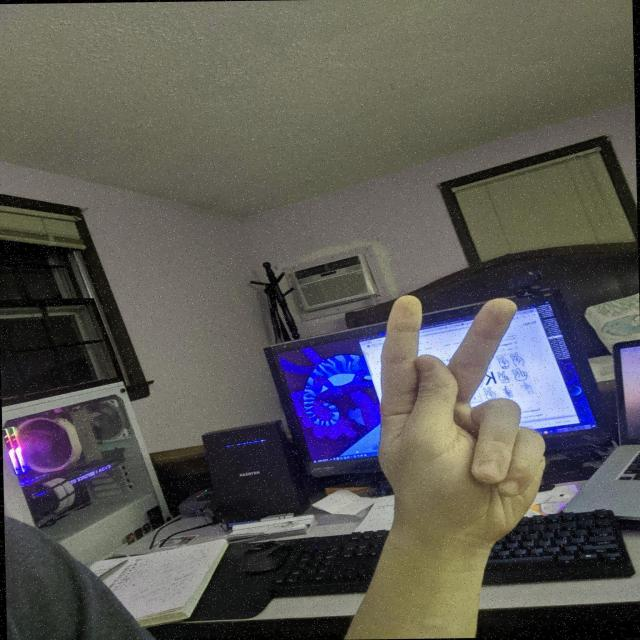K: (362, 288, 558, 553)
